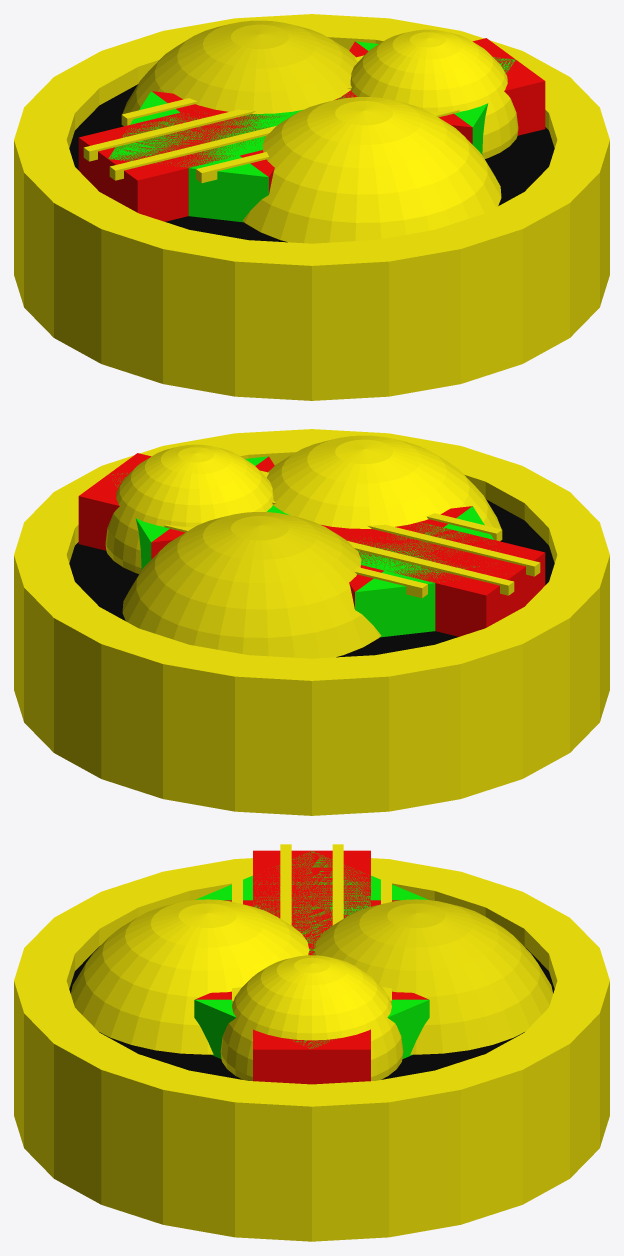
Rendered from powerups.glb.
3 renders of one model, top to bottom at view 1: azimuth 30°, elevation 25°; view 2: azimuth 150°, elevation 25°; view 3: azimuth 270°, elevation 25°, orthographic.
Visible parts, largest first — view 1: powerup.boost, powerup.split, powerup.shrink, powerup.stretch; view 2: powerup.boost, powerup.split, powerup.shrink, powerup.stretch; view 3: powerup.boost, powerup.split, powerup.shrink, powerup.stretch.
Boxes of the visible parts, box(x1,y1,x2,y2) form: powerup.boost: box(14, 14, 609, 400); powerup.split: box(122, 20, 501, 243); powerup.shrink: box(78, 38, 545, 221); powerup.stretch: box(108, 41, 515, 222); powerup.boost: box(14, 429, 609, 815); powerup.split: box(122, 435, 501, 658); powerup.shrink: box(78, 453, 545, 636); powerup.stretch: box(112, 456, 513, 637); powerup.boost: box(14, 844, 609, 1241); powerup.split: box(70, 899, 553, 1054); powerup.shrink: box(195, 850, 428, 1084); powerup.stretch: box(194, 851, 429, 1058).
Size of the model in its own units: 0.8 by 0.3089 by 0.8.
